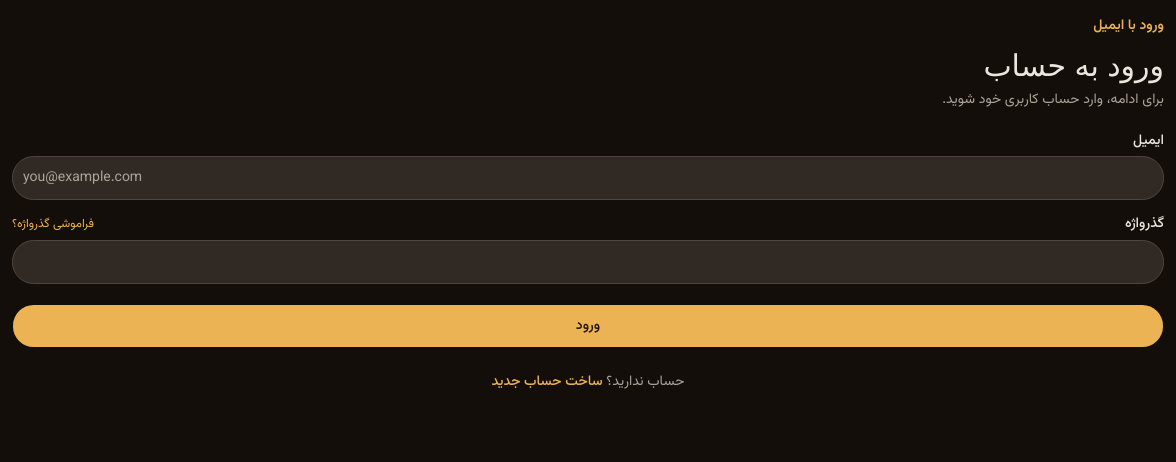
it: auth form errors › describes invalid controls and focuses the first affected field
Type "user@example.com" into the field labelled "ایمیل". click: {"x": 588, "y": 178}
box: top-left (12, 156), bottom-right (1164, 200)
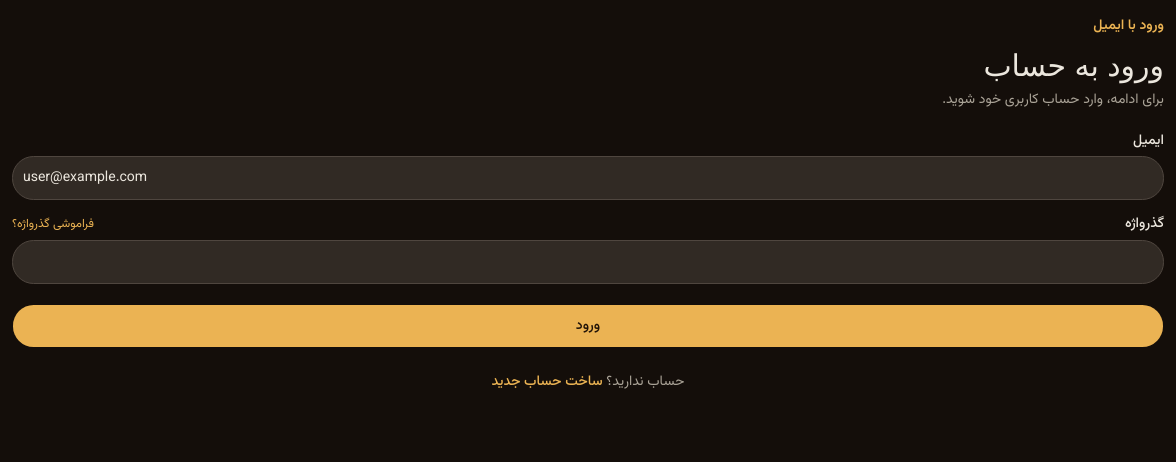
Type "wrong-password" into the password field labelled "گذرواژه". click: {"x": 588, "y": 262}
box: top-left (12, 240), bottom-right (1164, 284)
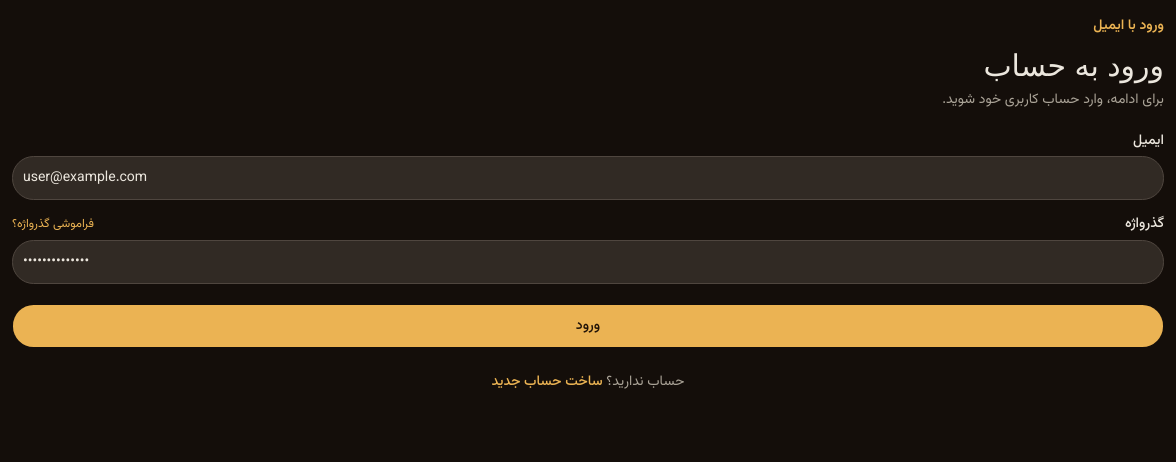
Click the button "ورود". click: {"x": 588, "y": 326}
box: top-left (12, 304), bottom-right (1164, 348)
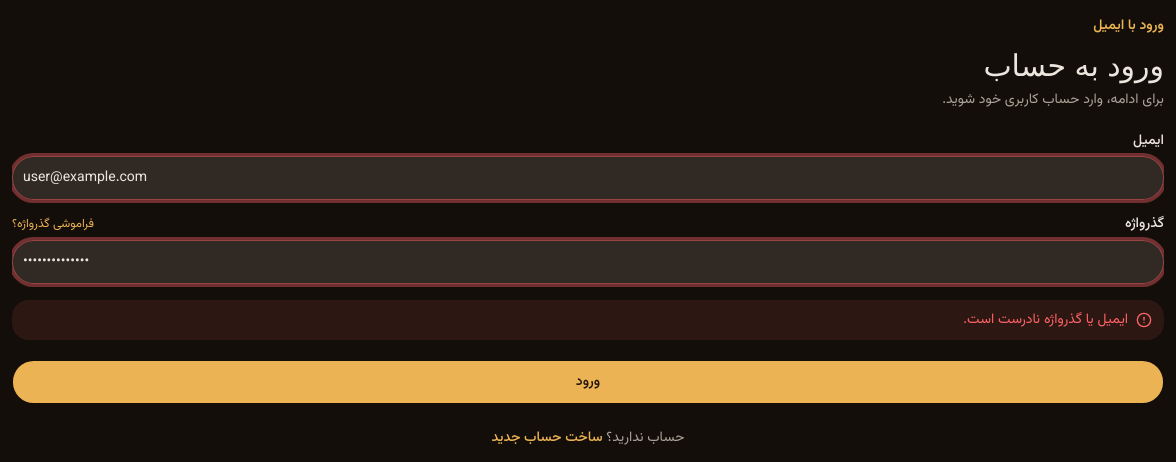
Expected: the message "ایمیل یا گذرواژه نادرست است." is shown, top-left (12, 300), bottom-right (1164, 340)
